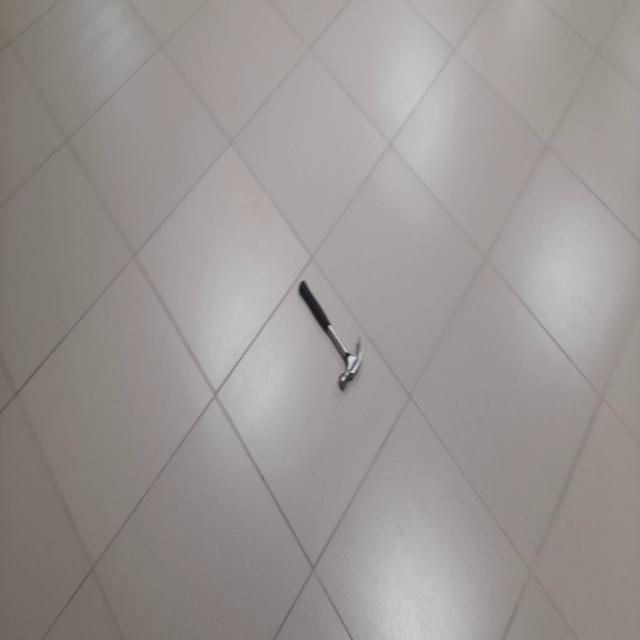hammer: (297, 278, 363, 392)
